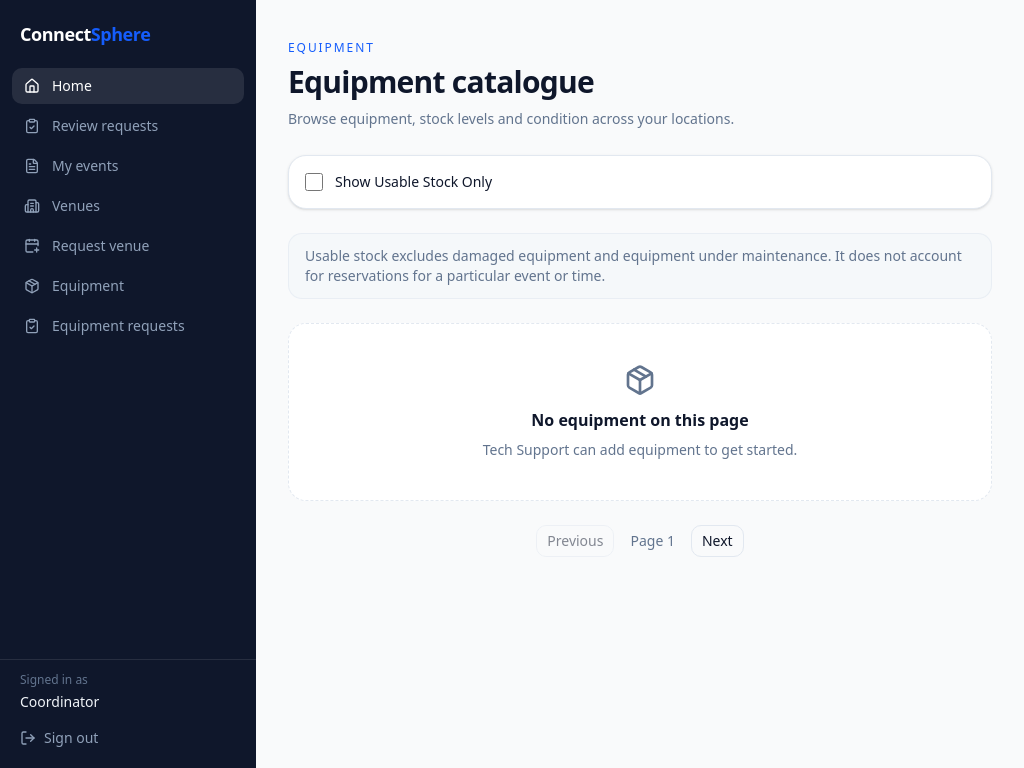
Test case: equipment catalogue can navigate back from a later page
Check: the heading "No equipment on this page" is shown, box 531,409 -> 749,431
Click the button "Next": (717, 541) 691,525 -> 744,557
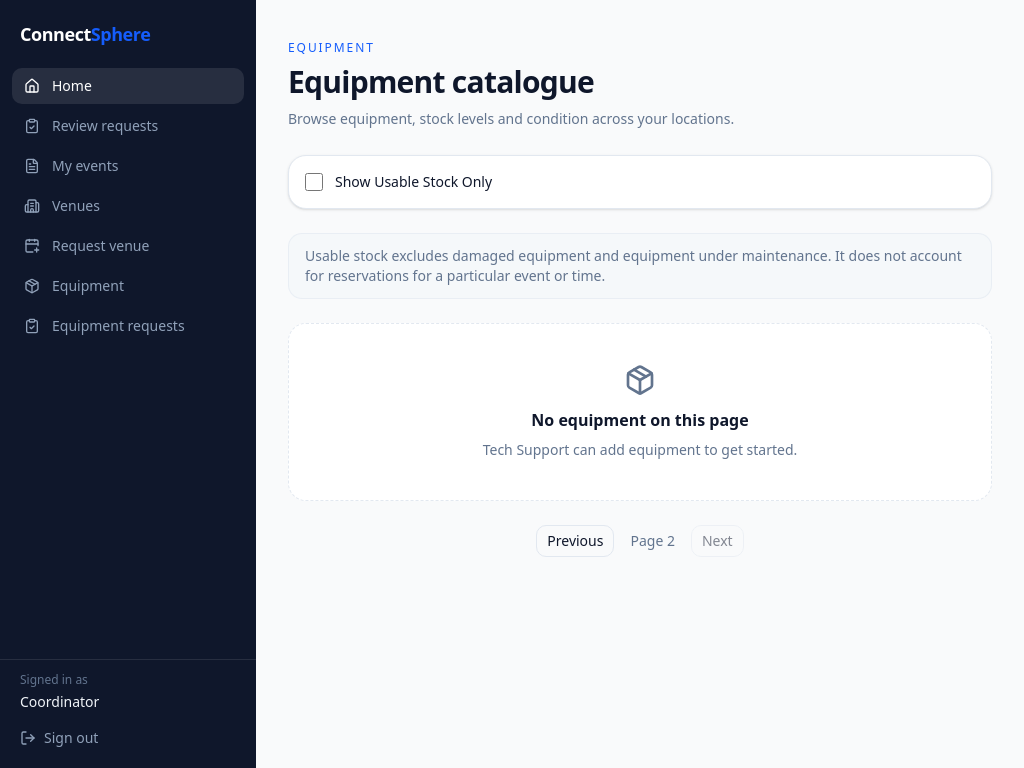
Check: the text "Page 2" is shown, box 630,531 -> 675,551
Click the button "Previous": (575, 541) 536,525 -> 614,557
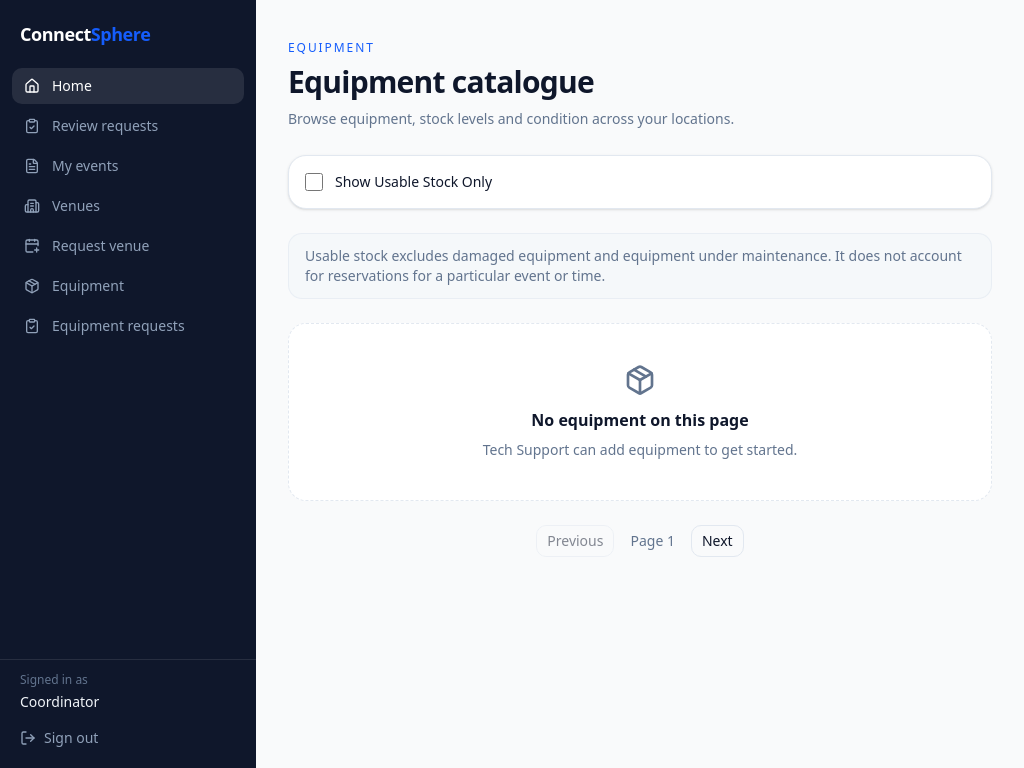
Check: the text "Page 1" is shown, box 630,531 -> 675,551
